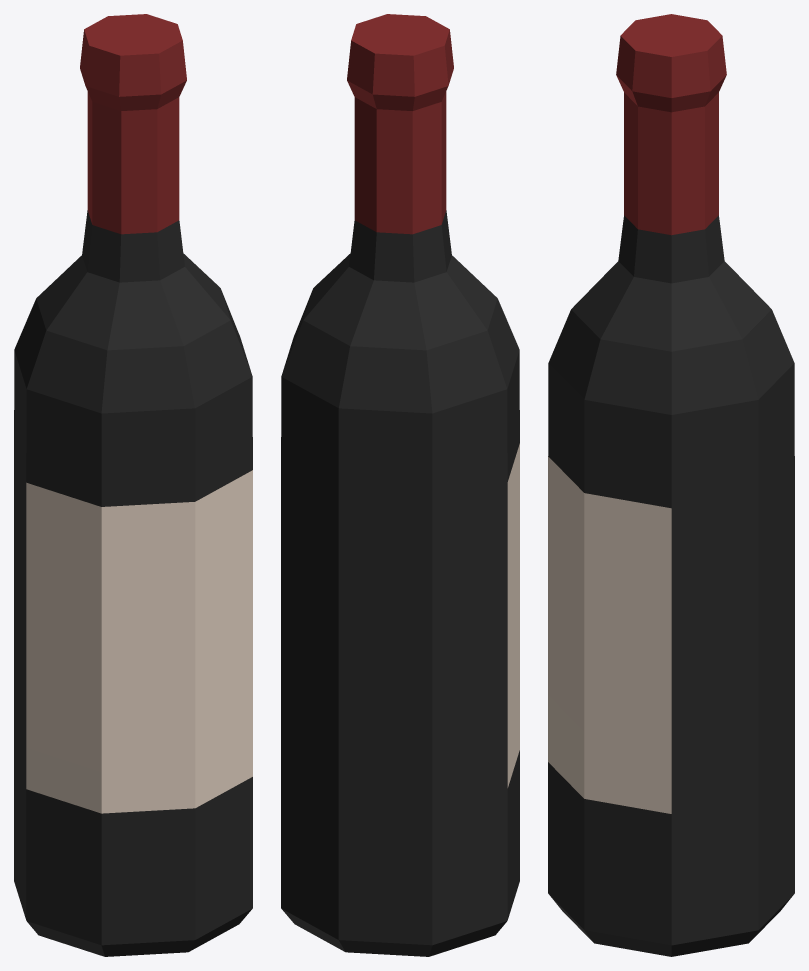
Rendered from wine-bottle-red.glb.
3 renders of one model, left to right at view 1: azimuth 30°, elevation 25°; view 2: azimuth 150°, elevation 25°; view 3: azimuth 270°, elevation 25°, orthographic.
Parts seen in each view (by area): view 1: wine-bottle-red; view 2: wine-bottle-red; view 3: wine-bottle-red.
Boxes of the visible parts, x1,y1,x2,y2 form: wine-bottle-red: (14,14,252,956); wine-bottle-red: (281,14,519,956); wine-bottle-red: (548,14,794,956).
Size of the model in its own units: 0.0847 by 0.3317 by 0.0847.
1 material, 1 textured.
